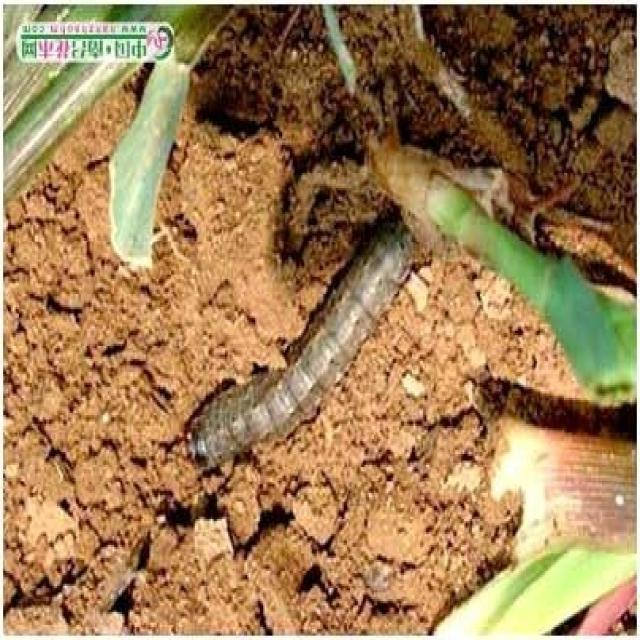black cutworm: (186, 220, 412, 471)
